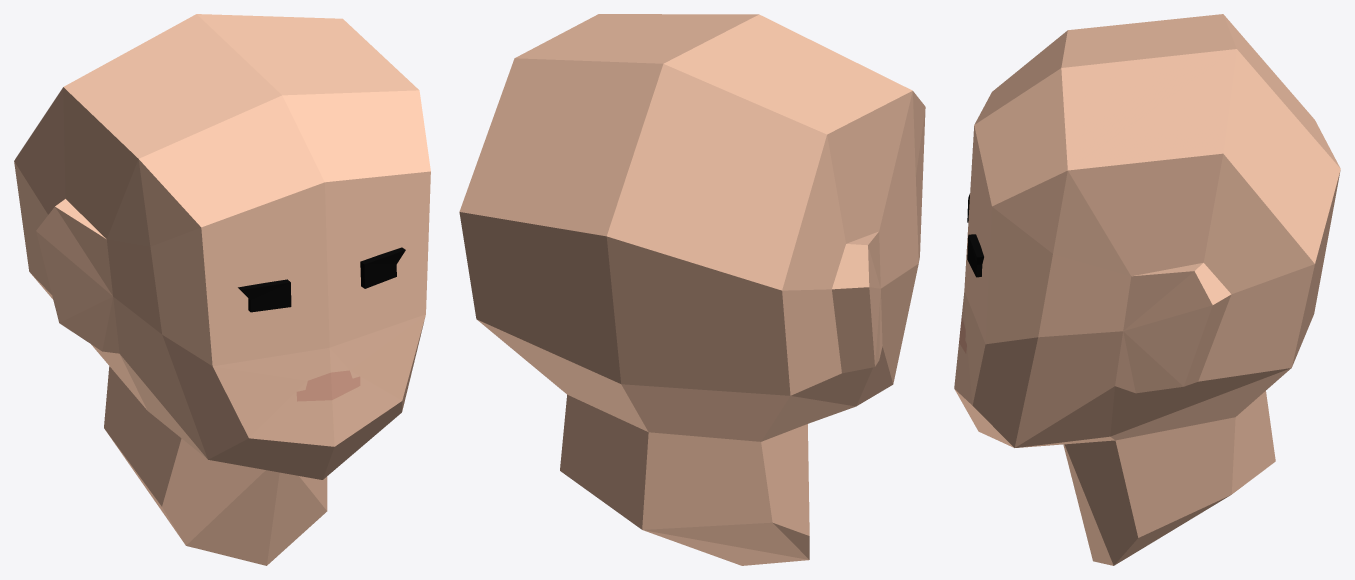
Rendered from Chr_Head_Female_00_Static.fbx.
The picture shows the model from 3 angles, left to right: view 1: azimuth 30°, elevation 25°; view 2: azimuth 150°, elevation 25°; view 3: azimuth 270°, elevation 25°; orthographic projection. The views are drawn at different scales.
Visible parts, largest first — view 1: Chr_Head_Female_00_Static; view 2: Chr_Head_Female_00_Static; view 3: Chr_Head_Female_00_Static.
Part boxes in pixels (bbox=[...]): Chr_Head_Female_00_Static: bbox=[14, 14, 430, 565]; Chr_Head_Female_00_Static: bbox=[459, 14, 925, 565]; Chr_Head_Female_00_Static: bbox=[954, 14, 1340, 565].
Bounding box in the file's own units: 0.2661 × 0.3693 × 0.2526.
